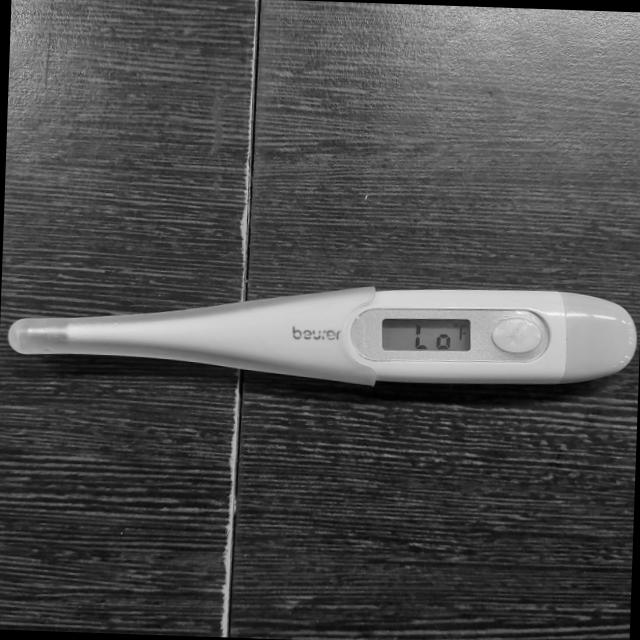Others: (5, 231, 640, 439)
